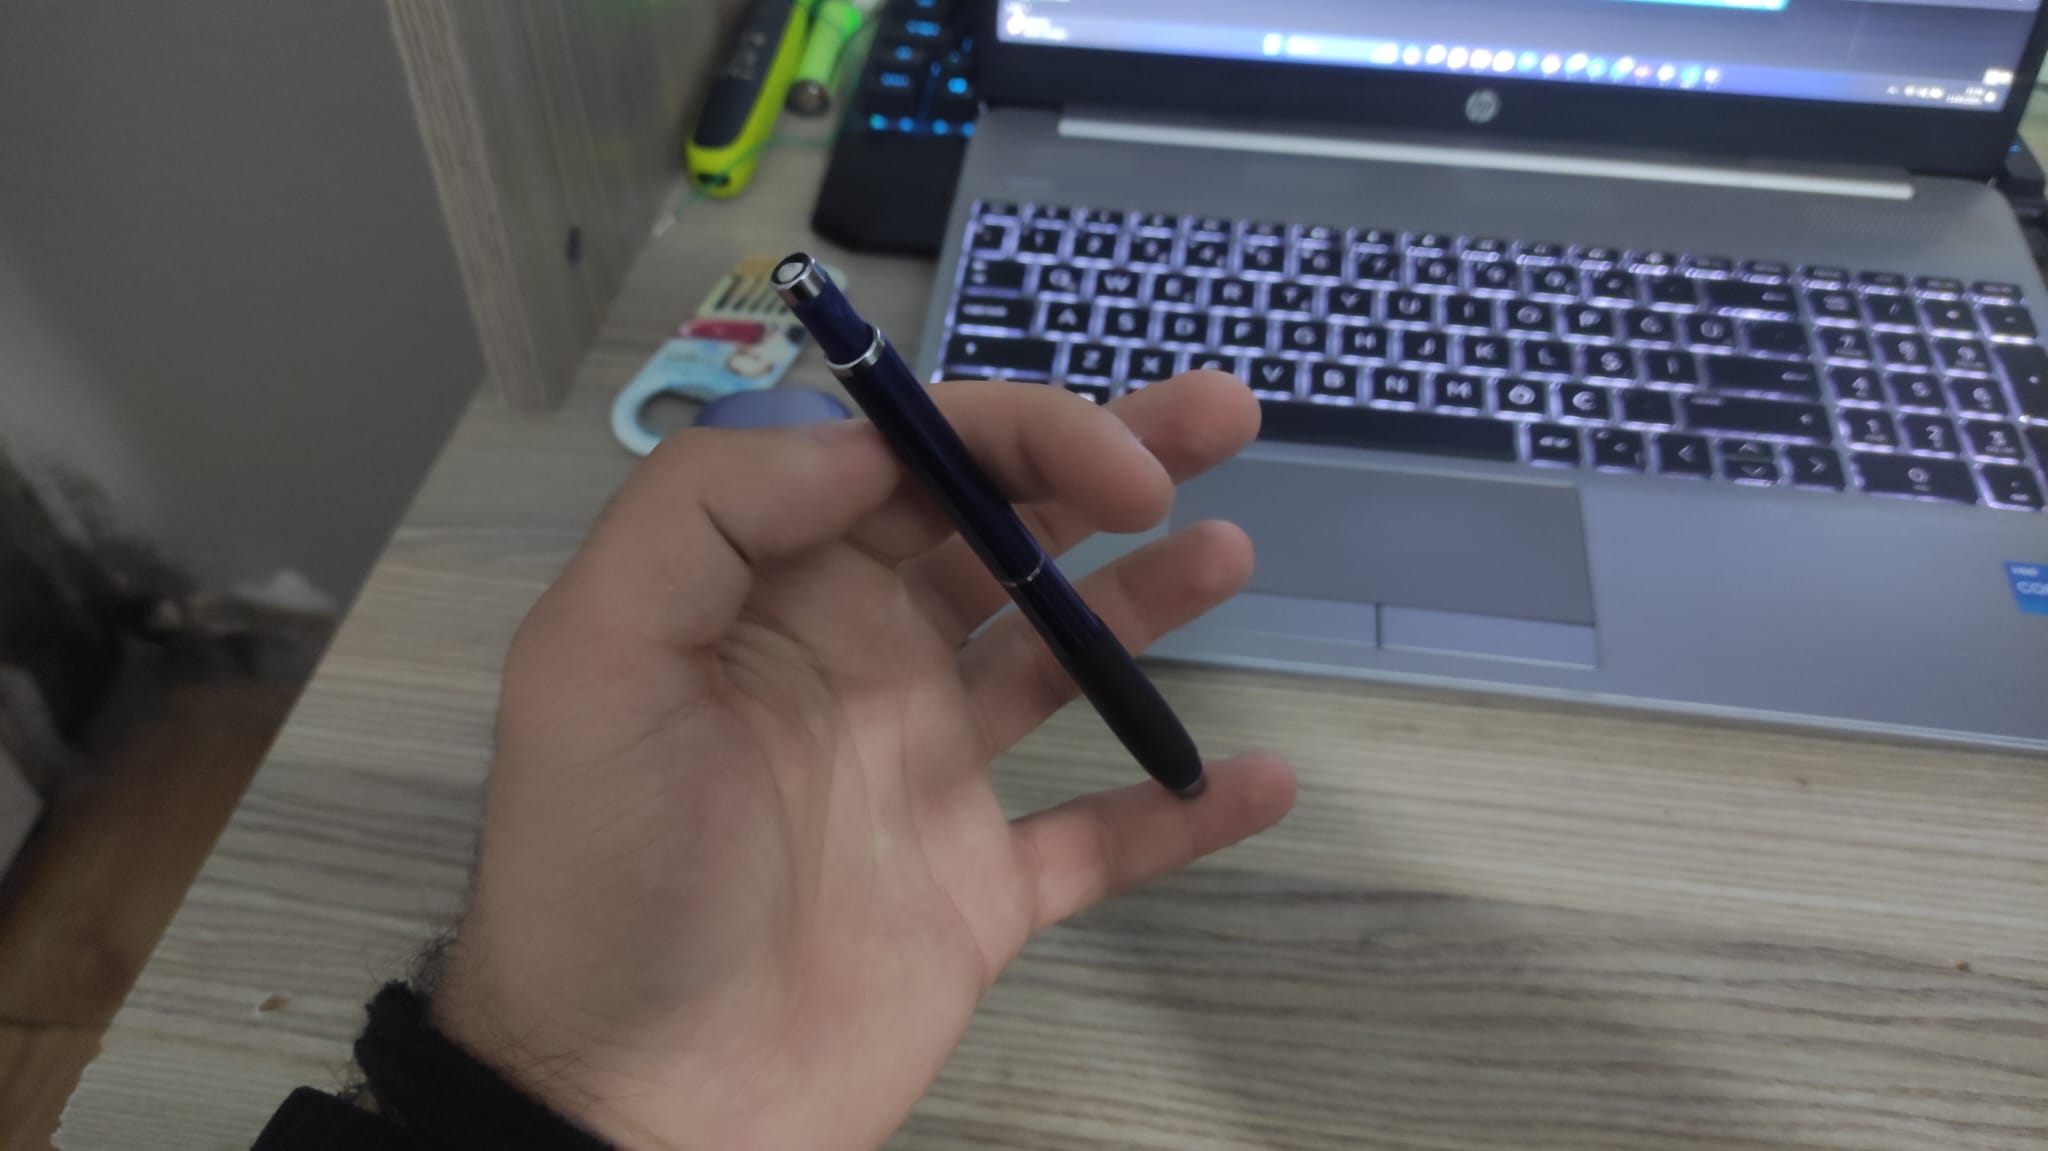kalem: (768, 250, 1207, 789)
